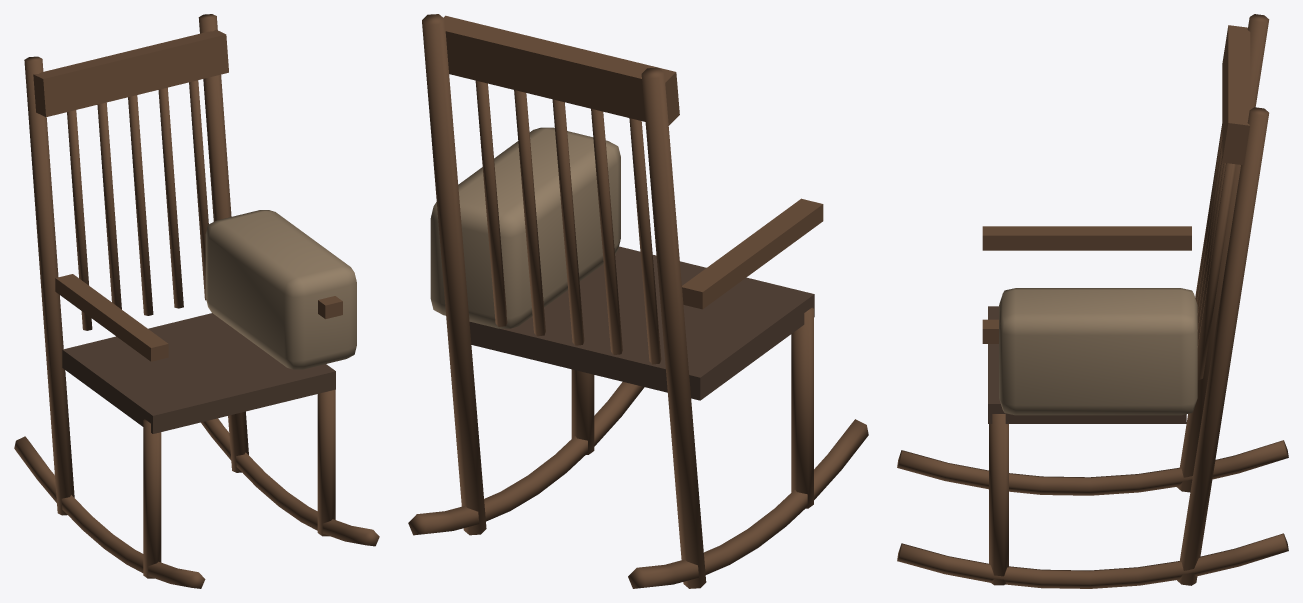
File: rocking_chair.glb
3 renders of one model, left to right at view 1: azimuth 30°, elevation 25°; view 2: azimuth 150°, elevation 25°; view 3: azimuth 270°, elevation 25°, orthographic. The views are drawn at different scales.
Parts seen in each view (by area): view 1: rocking_chair; view 2: rocking_chair; view 3: rocking_chair.
Part boxes in pixels (x1,y1,x2,y2): rocking_chair: (14,14,379,588); rocking_chair: (408,14,868,588); rocking_chair: (897,14,1288,588).
Size of the model in its own units: 0.5 by 0.9554 by 0.7106.
